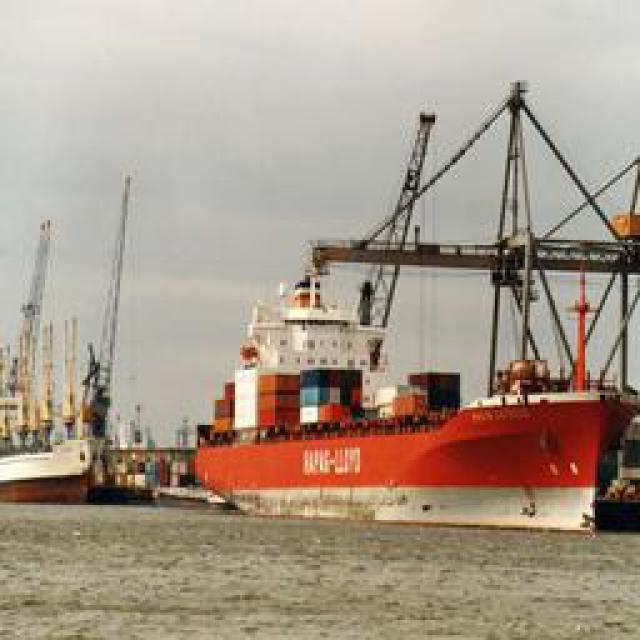Ship: (176, 78, 636, 533)
